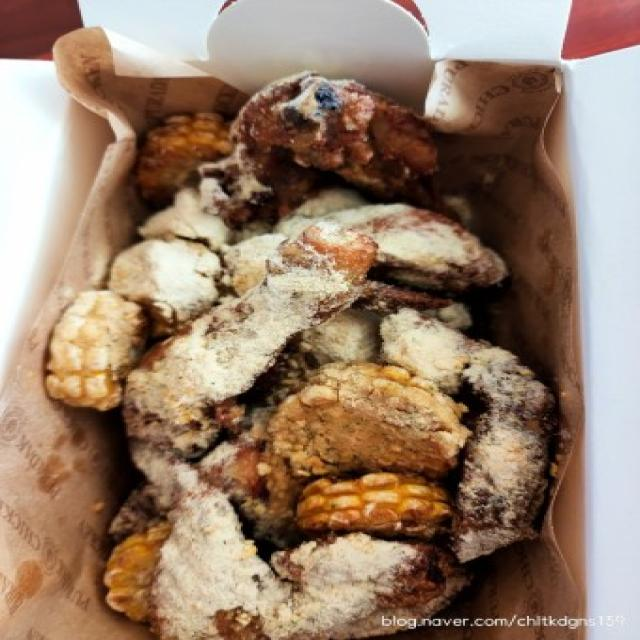Frango: (75, 56, 579, 640)
